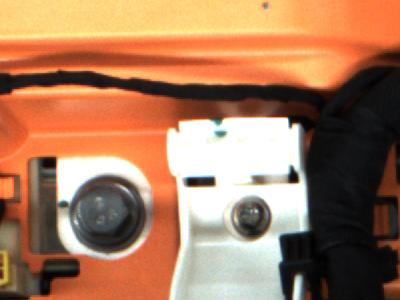nut_b: (66, 175, 147, 251)
